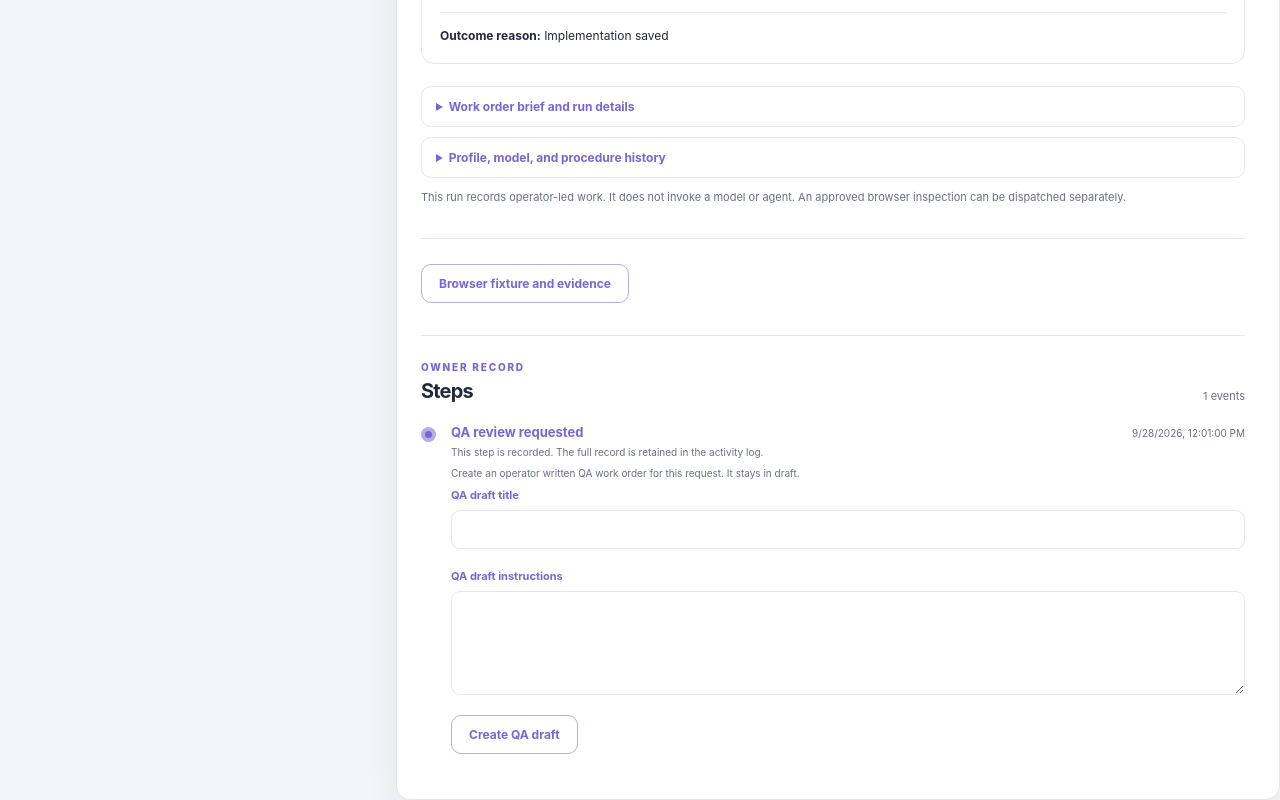
Scenario: creates an operator supplied QA draft from a same-run request and confirms its saved owner state
The width and height of the screenshot is (1280, 800).
(page scrolled)
Expected: the heading "QA review requested" is shown, [451, 424, 584, 440]
Type "Review change" into the field labelled "QA draft title" at (848, 529), box [451, 510, 1245, 549]
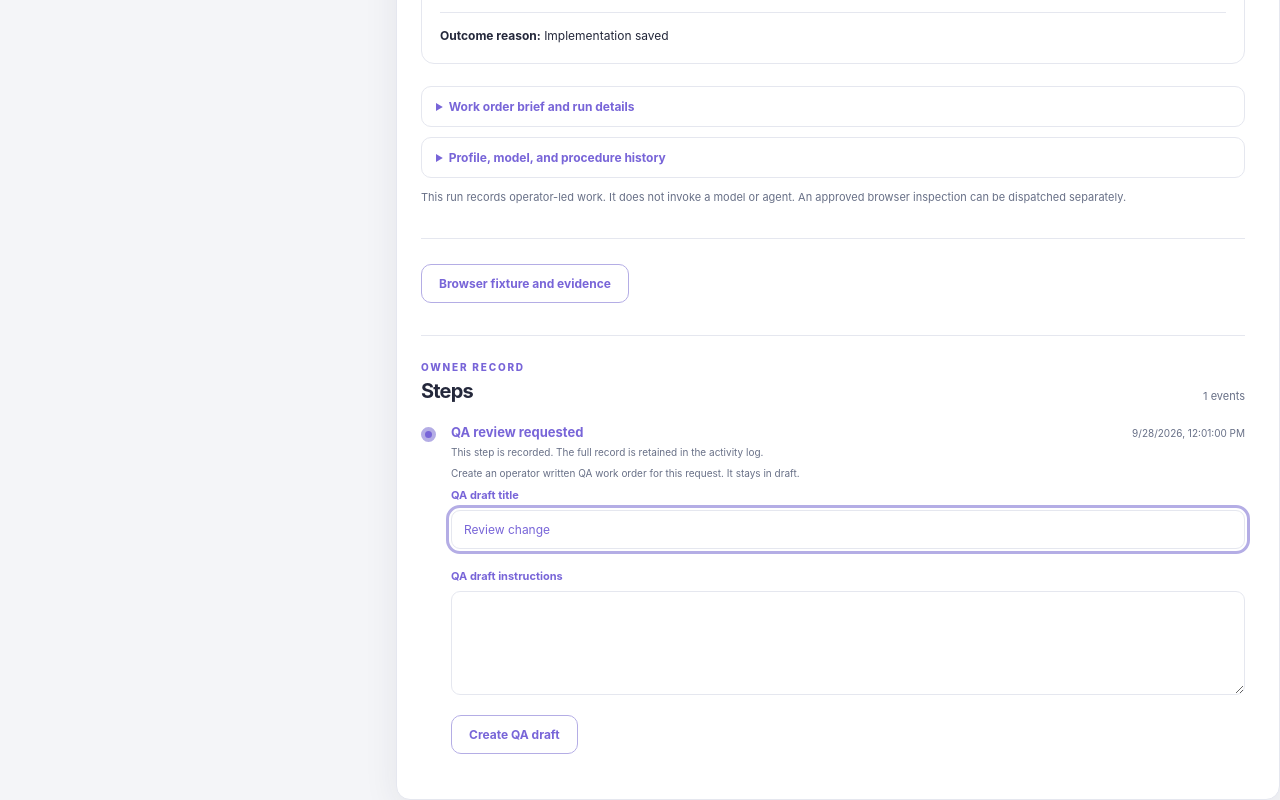
Type "Check saved diff and tests" into the text box labelled "QA draft instructions" at (848, 643), box [451, 591, 1245, 695]
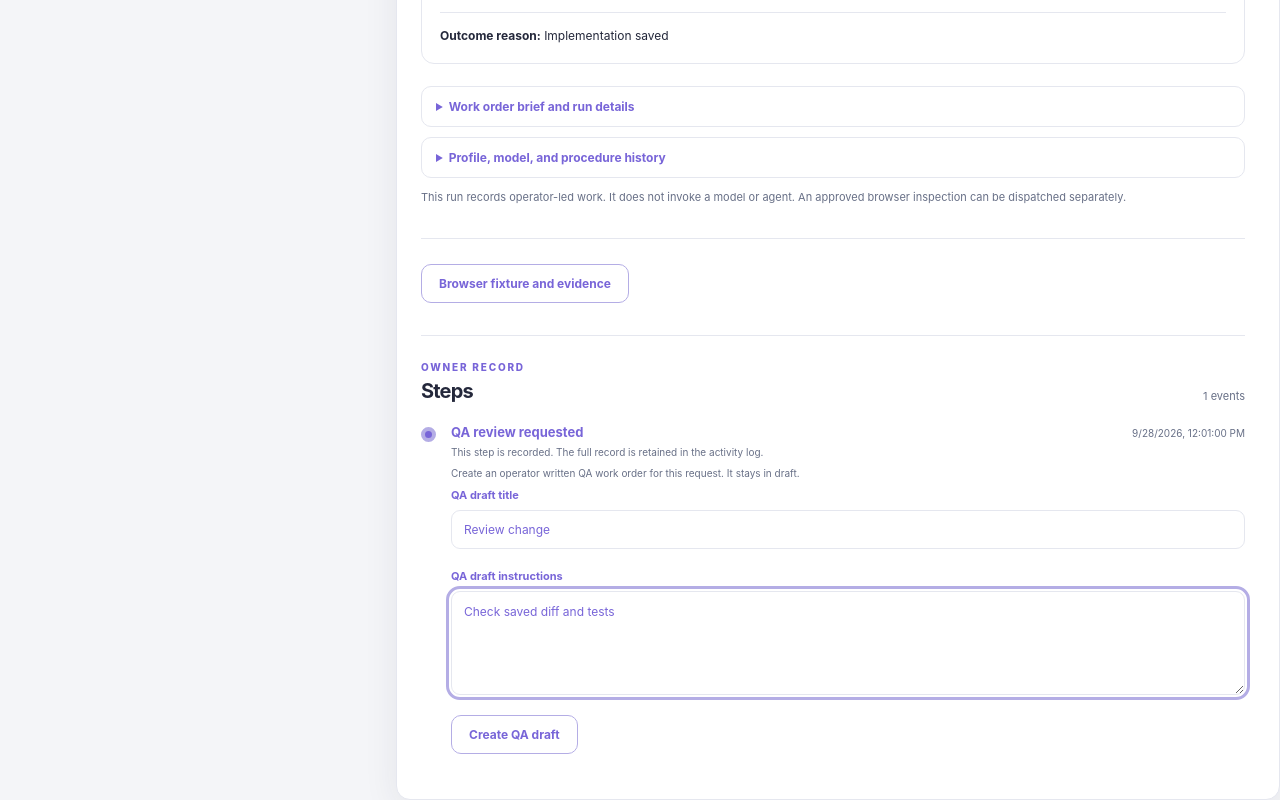
Click the button "Create QA draft" at (514, 734), box [451, 715, 578, 754]
(page scrolled)
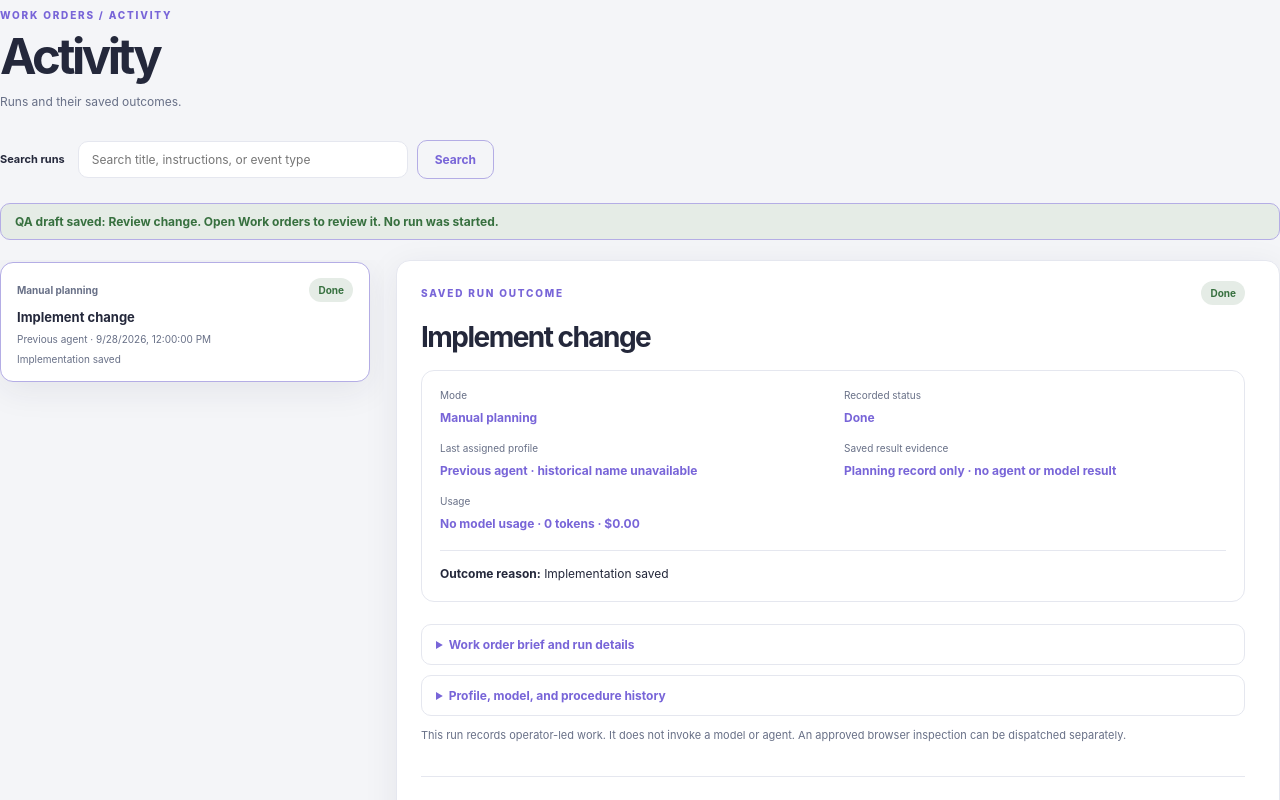
Expected: the message shows "QA draft saved", [15, 214, 499, 228]
Expected: the message shows "Review change", [15, 214, 499, 228]
Expected: the message shows "Open Work orders", [15, 214, 499, 228]
